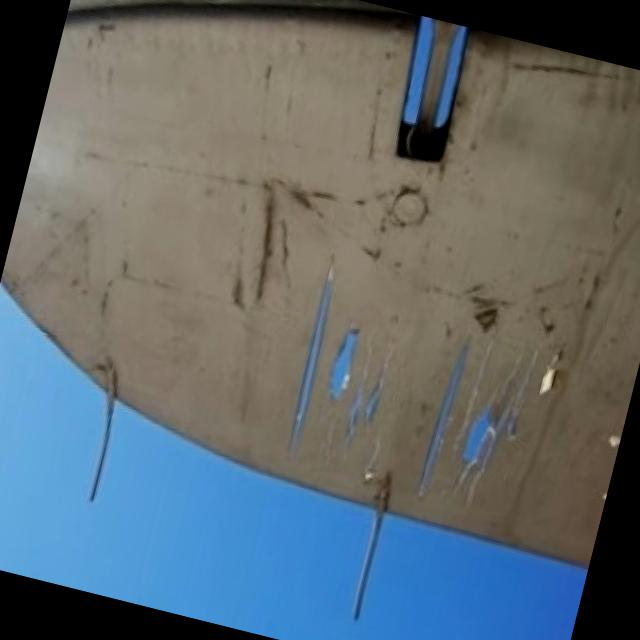crack: (274, 254, 553, 515)
